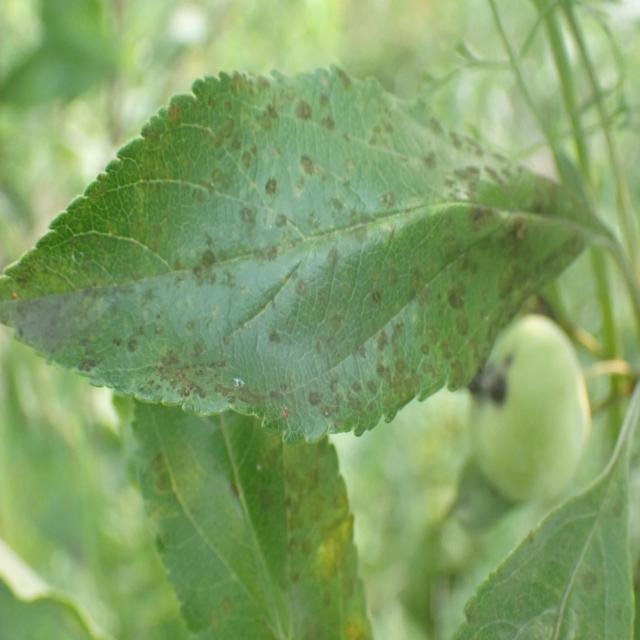scab: (43, 67, 590, 419), (128, 432, 384, 640), (446, 442, 640, 640)
